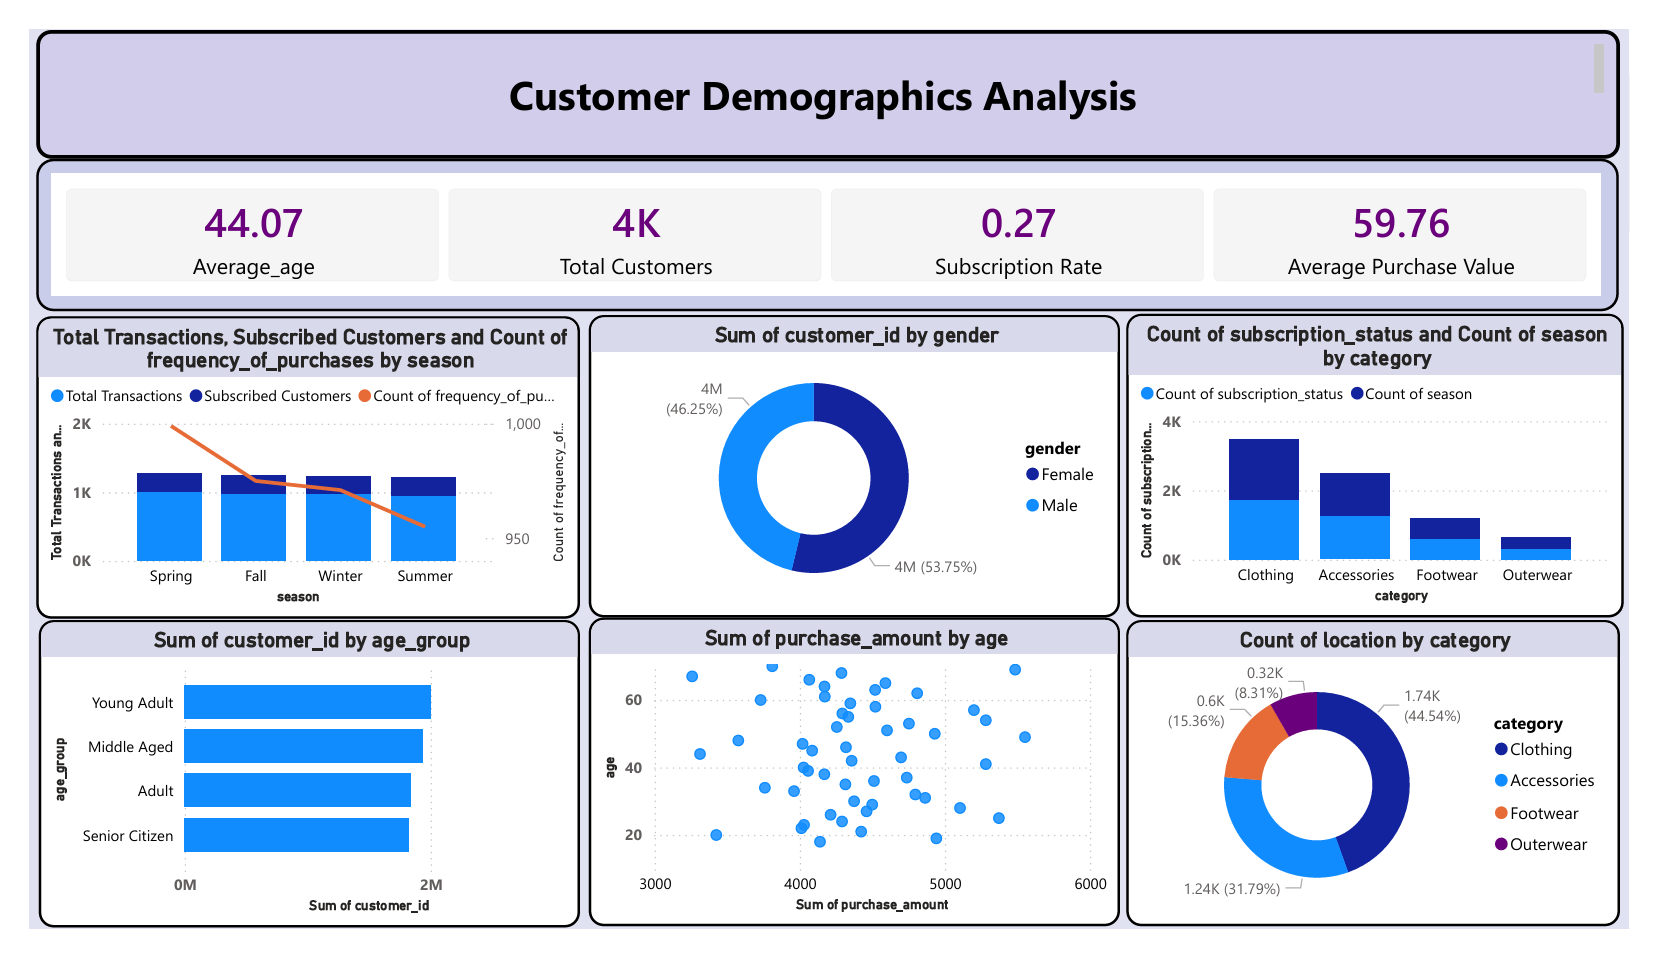

The page's visual inventory and layout, read from the dashboard file:
{"tool":"powerbi","page":{"name":" Customer Demographics Analysis","canvas":[1280,720],"ordinal":1},"visuals":[{"type":"textbox","box":[5,0,1266.7,103.3],"z":0},{"type":"cardVisual","fields":{"Data":["CustomerAnalysis.Average_age","CustomerAnalysis.Total Customers","CustomerAnalysis.Subscription Rate","CustomerAnalysis.Average Purchase Value"]},"box":[5.5,102.9,1266,122],"z":1000},{"type":"clusteredBarChart","fields":{"Category":["CustomerAnalysis.age_group"],"Y":["Sum(CustomerAnalysis.customer_id)"]},"box":[6.9,472,433.6,245.6],"z":2000},{"type":"donutChart","fields":{"Category":["CustomerAnalysis.gender"],"Y":["Sum(CustomerAnalysis.customer_id)"]},"box":[446.7,228.3,425,241.7],"z":3000},{"type":"lineStackedColumnComboChart","fields":{"Category":["CustomerAnalysis.season"],"Y":["CustomerAnalysis.Total Transactions","CustomerAnalysis.Subscribed Customers"],"Y2":["CountNonNull(CustomerAnalysis.frequency_of_purchases)"]},"box":[5.5,229.2,435,241.5],"z":4000},{"type":"donutChart","fields":{"Category":["CustomerAnalysis.category"],"Y":["CountNonNull(CustomerAnalysis.location)"]},"box":[876.7,471.7,395,245],"z":5000},{"type":"scatterChart","fields":{"X":["Sum(CustomerAnalysis.purchase_amount)"],"Y":["CustomerAnalysis.age"]},"box":[446.7,470,425,246.7],"z":6000},{"type":"lineStackedColumnComboChart","fields":{"Category":["CustomerAnalysis.category"],"Y":["CountNonNull(CustomerAnalysis.subscription_status)","CountNonNull(CustomerAnalysis.season)"]},"box":[876.7,226.7,398.3,243.3],"z":7000}]}

Visuals, with their boxes in screenshot pixels (x1, y1, x2, y2), scaled from the page's 1280x720 canvas onto the 1656x956 screenshot:
textbox: [x1=6, y1=0, x2=1645, y2=137]
cardVisual - CustomerAnalysis.Average_age x CustomerAnalysis.Total Customers: [x1=7, y1=137, x2=1645, y2=299]
clusteredBarChart - CustomerAnalysis.age_group x Sum(CustomerAnalysis.customer_id): [x1=9, y1=627, x2=570, y2=953]
donutChart - CustomerAnalysis.gender x Sum(CustomerAnalysis.customer_id): [x1=578, y1=303, x2=1128, y2=624]
lineStackedColumnComboChart - CustomerAnalysis.season x CustomerAnalysis.Total Transactions: [x1=7, y1=304, x2=570, y2=625]
donutChart - CustomerAnalysis.category x CountNonNull(CustomerAnalysis.location): [x1=1134, y1=626, x2=1645, y2=952]
scatterChart - Sum(CustomerAnalysis.purchase_amount) x CustomerAnalysis.age: [x1=578, y1=624, x2=1128, y2=952]
lineStackedColumnComboChart - CustomerAnalysis.category x CountNonNull(CustomerAnalysis.subscription_status): [x1=1134, y1=301, x2=1650, y2=624]
